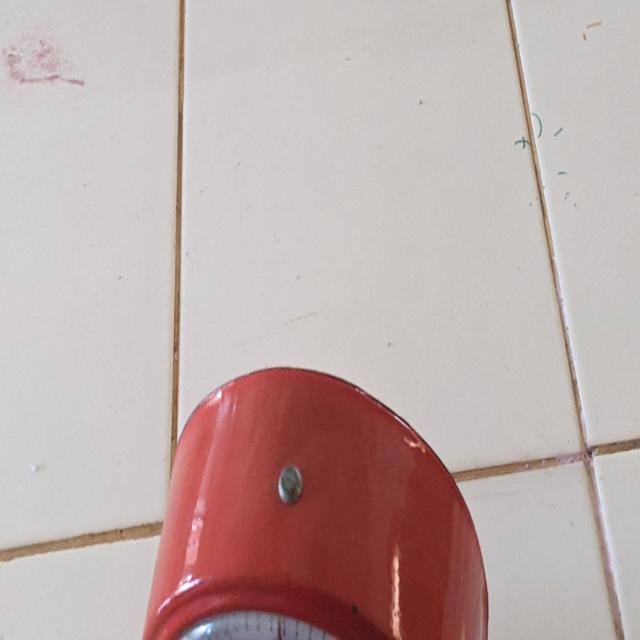Analog Stopwatch: (153, 352, 490, 640)
